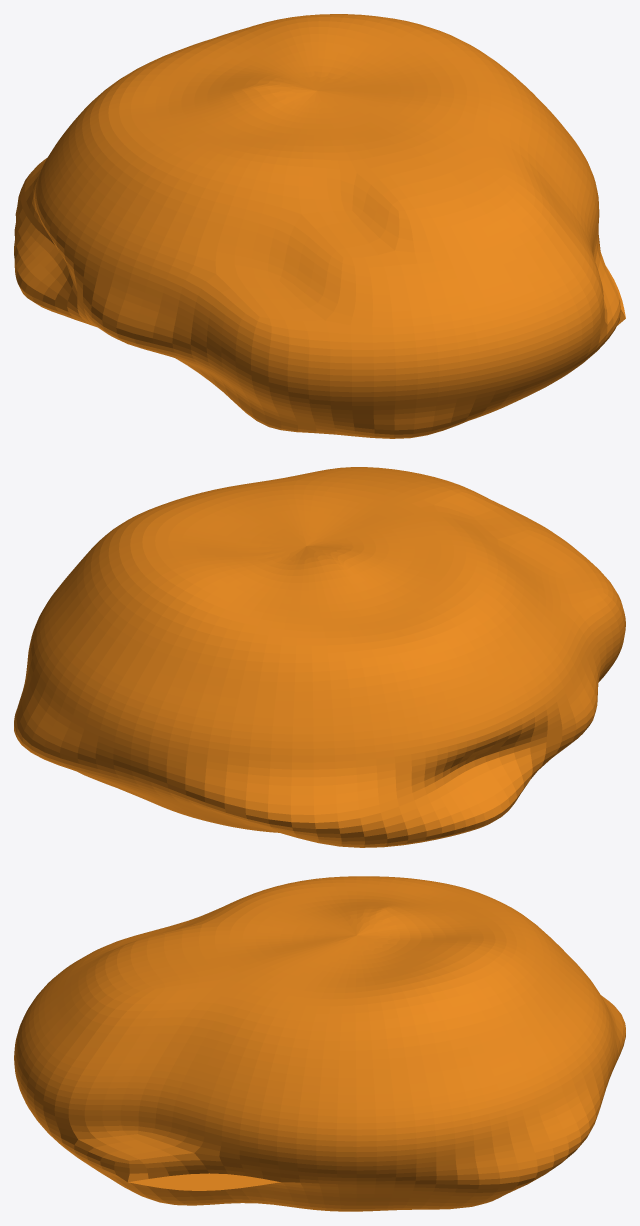
The model's file is point.fbx.
3 renders of one model, top to bottom at view 1: azimuth 30°, elevation 25°; view 2: azimuth 150°, elevation 25°; view 3: azimuth 270°, elevation 25°, orthographic. The views are drawn at different scales.
Visible parts, largest first — view 1: Sphere; view 2: Sphere; view 3: Sphere.
Part boxes in pixels (left/top/right/bottom): Sphere: left=14, top=14, right=625, bottom=438; Sphere: left=14, top=467, right=625, bottom=847; Sphere: left=14, top=876, right=625, bottom=1211.
Size of the model in its own units: 1000 by 492 by 1175.
